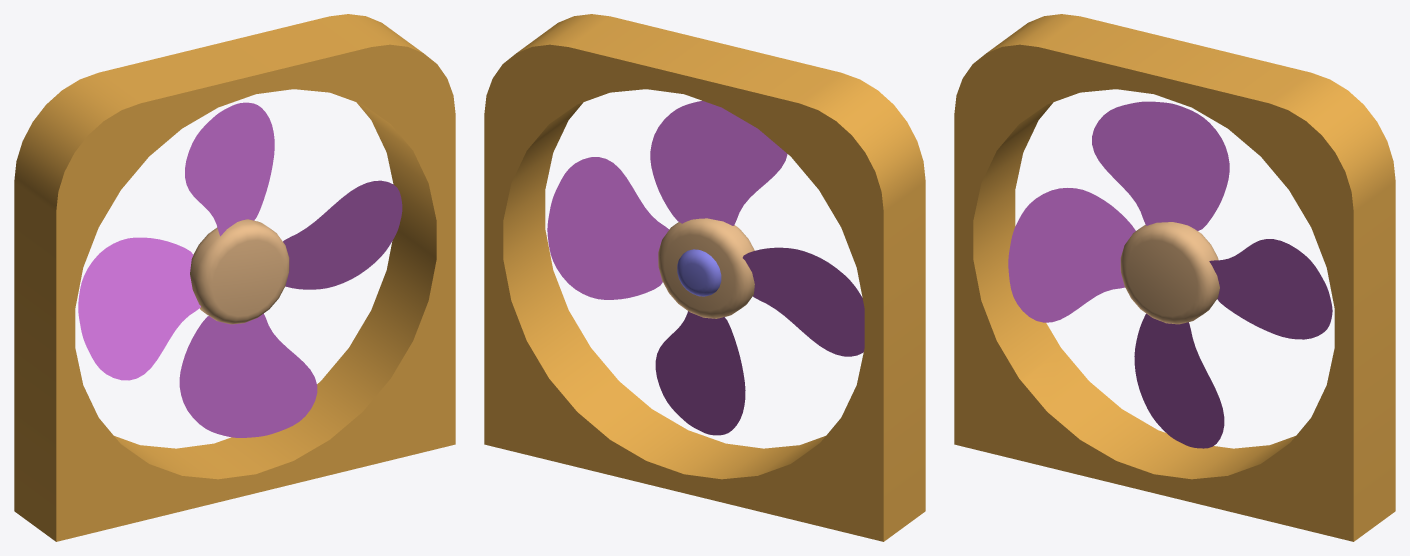
The model's file is Fan.fbx.
The picture shows the model from 3 angles, left to right: view 1: azimuth 30°, elevation 25°; view 2: azimuth 150°, elevation 25°; view 3: azimuth 330°, elevation 25°; orthographic projection.
Parts seen in each view (by area): view 1: Fan, FanRound.002; view 2: Fan, FanRound.002; view 3: Fan, FanRound.002.
Boxes of the visible parts, x1,y1,x2,y2 form: Fan: [14, 14, 455, 541]; FanRound.002: [78, 102, 402, 437]; Fan: [484, 14, 925, 541]; FanRound.002: [547, 100, 864, 435]; Fan: [954, 14, 1395, 541]; FanRound.002: [1008, 101, 1332, 448].
Size of the model in its own units: 220 by 220 by 40.
